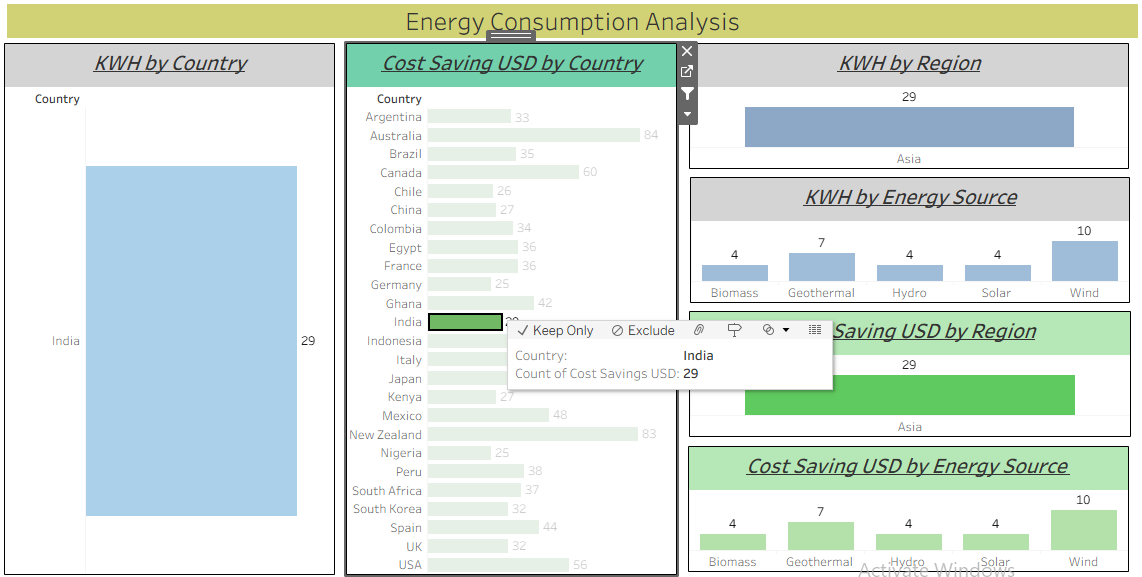

This screenshot's page, from the dashboard's own definition file:
{"tool":"tableau","page":{"name":"Energy Consumption Analysis","canvas":[1000,1000],"units":"permille","ordinal":0},"visuals":[{"type":"title","box":[6.9,13.5,986.1,70.9]},{"type":"worksheet","title":"KWH by Country","mark":"Automatic","rows":["Country"],"cols":["Monthly_Usage_kWh"],"box":[7.8,86.2,286.6,898.6]},{"type":"worksheet","title":"Cost Saving USD by Country","mark":"Automatic","rows":["Country"],"cols":["Cost_Savings_USD"],"box":[303.9,86.2,286.6,898.6]},{"type":"worksheet","title":"KWH by Region","mark":"Automatic","rows":["Monthly_Usage_kWh"],"cols":["Region"],"box":[600.9,86.2,380.9,212.8]},{"type":"worksheet","title":"KWH by Energy Source","mark":"Automatic","rows":["Monthly_Usage_kWh"],"cols":["Energy_Source"],"box":[601.7,312.5,380.9,212.8]},{"type":"worksheet","title":"Cost Saving USD by Region","mark":"Automatic","rows":["Cost_Savings_USD"],"cols":["Region"],"box":[600.9,538.9,382.7,212.8]},{"type":"worksheet","title":"Cost Saving USD by Energy Source ","mark":"Automatic","rows":["Cost_Savings_USD"],"cols":["Energy_Source"],"box":[600,766.9,381.8,212.8]}]}

Visuals, with their boxes on the dashboard's canvas, which has no fixed pixel size, in thousandths of its width and height (x1, y1, x2, y2). These are canvas units, not pixel positions in the 1142x577 screenshot, which may show the page scaled, cropped or inside an application window:
title: [7,14,993,84]
"KWH by Country" worksheet: [8,86,294,985]
"Cost Saving USD by Country" worksheet: [304,86,590,985]
"KWH by Region" worksheet: [601,86,982,299]
"KWH by Energy Source" worksheet: [602,312,983,525]
"Cost Saving USD by Region" worksheet: [601,539,984,752]
"Cost Saving USD by Energy Source " worksheet: [600,767,982,980]
